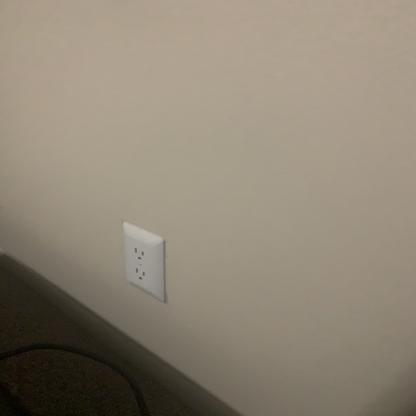OUTLET: (122, 222, 166, 303)
